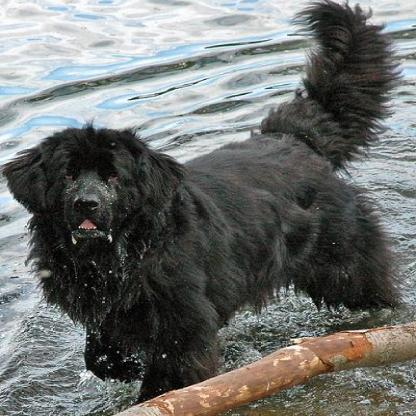Newfoundland: (0, 0, 408, 384)
